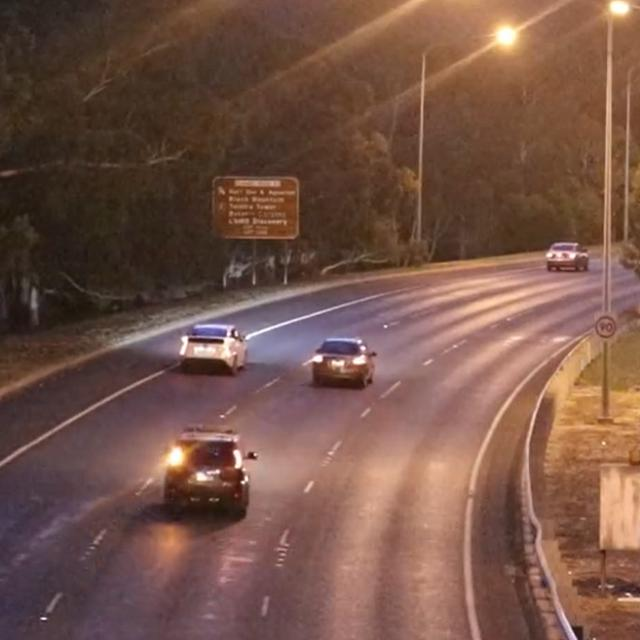car: (162, 422, 255, 520), (178, 322, 250, 375), (310, 335, 376, 389), (545, 240, 591, 274)
